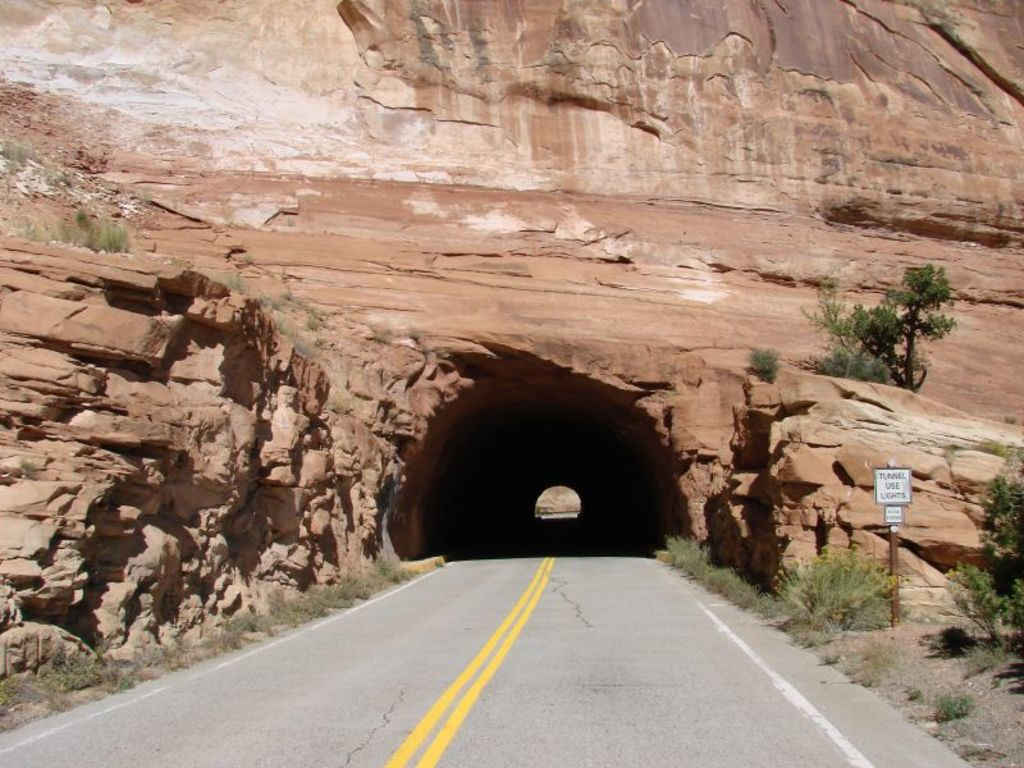Tree: (814, 255, 965, 387)
